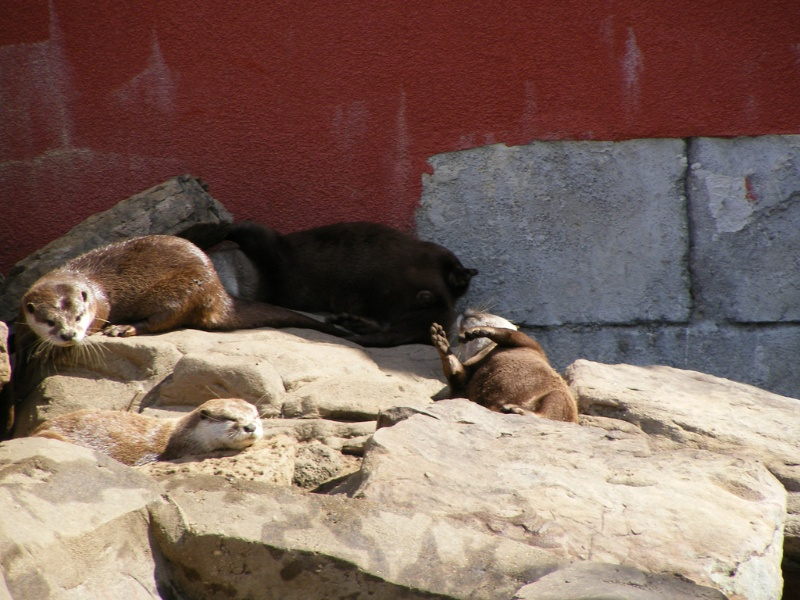minkish: (16, 233, 244, 351), (238, 236, 485, 330), (426, 302, 585, 430), (22, 393, 266, 475)
